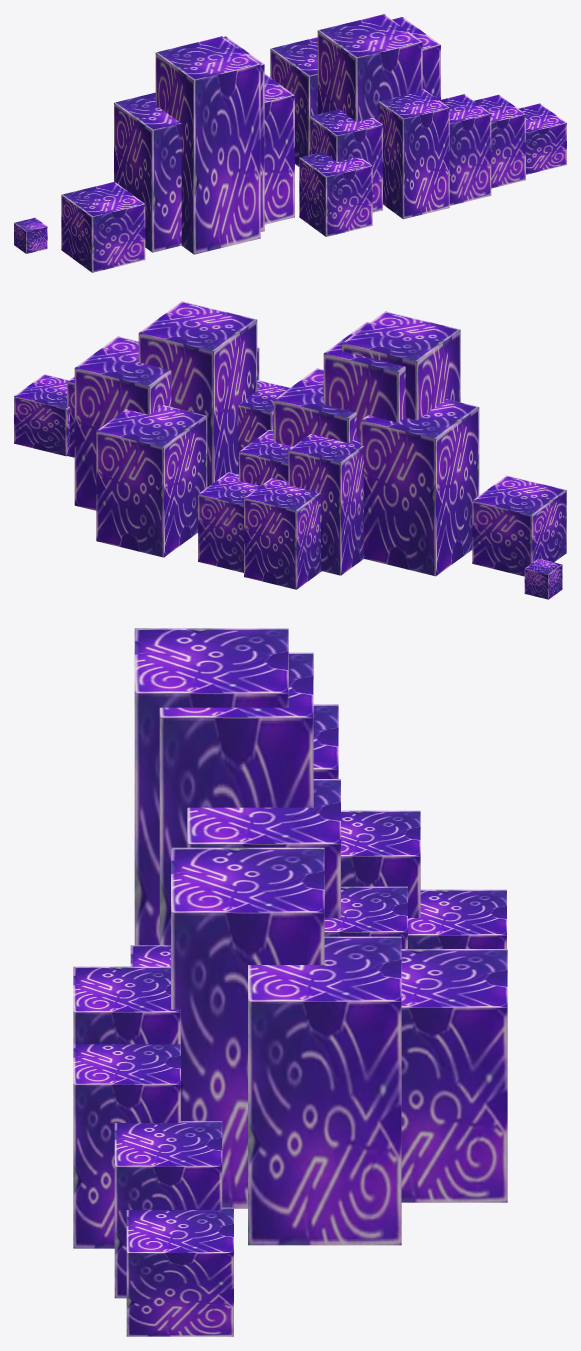
File: wave.obj
3 renders of one model, top to bottom at view 1: azimuth 30°, elevation 25°; view 2: azimuth 150°, elevation 25°; view 3: azimuth 270°, elevation 25°, orthographic. The views are drawn at different scales.
Visible parts, largest first — view 1: Cube, Cube.007, Cube.001, Cube.013, 立方体, Cube.014, Cube.012, Cube.003, Cube.004, Cube.016, Cube.011, Cube.010 (+3 smaller); view 2: Cube.001, Cube.016, Cube.007, Cube.015, 立方体, Cube.008, Cube.006, Cube, Cube.002, Cube.009, Cube.003, Cube.010 (+4 smaller); view 3: Cube.015, Cube.007, Cube.016, Cube.002, Cube, Cube.012, Cube.010, Cube.011, Cube.003, Cube.013, Cube.006, Cube.008 (+3 smaller).
Part boxes in pixels (<box>): Cube: <box>155,36,260,254</box>; Cube.007: <box>317,14,422,121</box>; Cube.001: <box>114,92,181,252</box>; Cube.013: <box>378,88,449,219</box>; 立方体: <box>61,181,145,272</box>; Cube.014: <box>299,152,372,236</box>; Cube.012: <box>439,94,491,205</box>; Cube.003: <box>264,74,294,224</box>; Cube.004: <box>309,109,382,212</box>; Cube.016: <box>270,37,317,166</box>; Cube.011: <box>474,94,525,188</box>; Cube.010: <box>518,103,566,174</box>; Cube.001: <box>360,399,479,576</box>; Cube.016: <box>96,405,207,557</box>; Cube.007: <box>138,301,257,486</box>; Cube.015: <box>74,336,171,510</box>; 立方体: <box>472,475,566,576</box>; Cube.008: <box>244,478,321,589</box>; Cube.006: <box>288,434,363,575</box>; Cube: <box>342,311,460,420</box>; Cube.002: <box>323,322,405,438</box>; Cube.009: <box>198,472,259,572</box>; Cube.003: <box>273,368,356,446</box>; Cube.010: <box>14,374,69,456</box>; Cube.015: <box>248,936,401,1245</box>; Cube.007: <box>171,847,324,1208</box>; Cube.016: <box>401,949,507,1202</box>; Cube.002: <box>159,652,313,945</box>; Cube: <box>134,628,288,945</box>; Cube.012: <box>73,1044,180,1248</box>; Cube.010: <box>126,1207,233,1336</box>; Cube.011: <box>114,1121,222,1298</box>; Cube.003: <box>187,779,340,918</box>; Cube.013: <box>73,966,180,1044</box>; Cube.006: <box>341,810,420,917</box>; Cube.008: <box>408,889,506,948</box>.
Bounding box in the file's own units: 15.02 × 5.22 × 5.65.
Materials: 20 (20 with a texture image).
